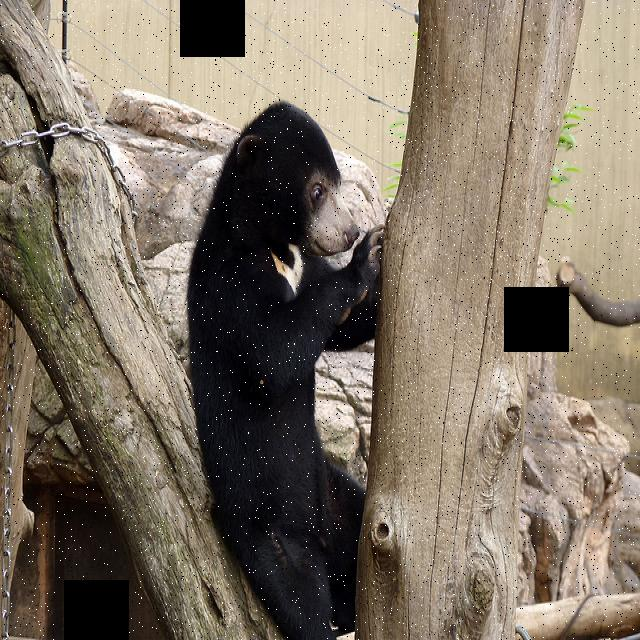Bear: (175, 77, 396, 640)
